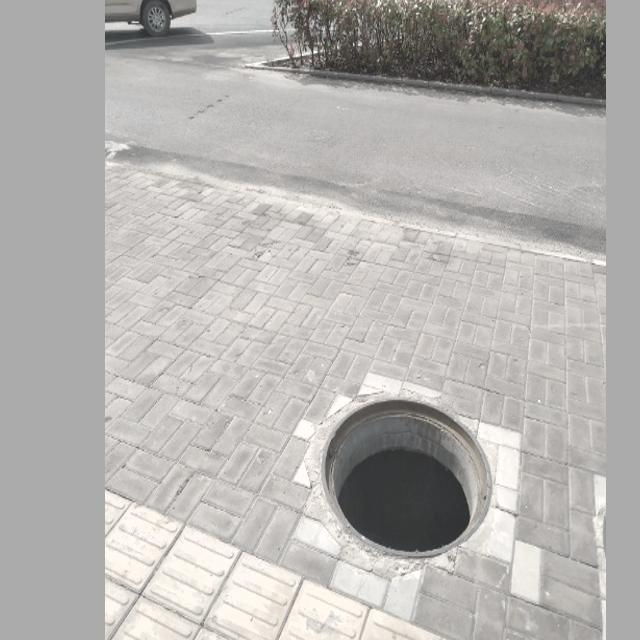lose: (319, 392, 494, 557)
